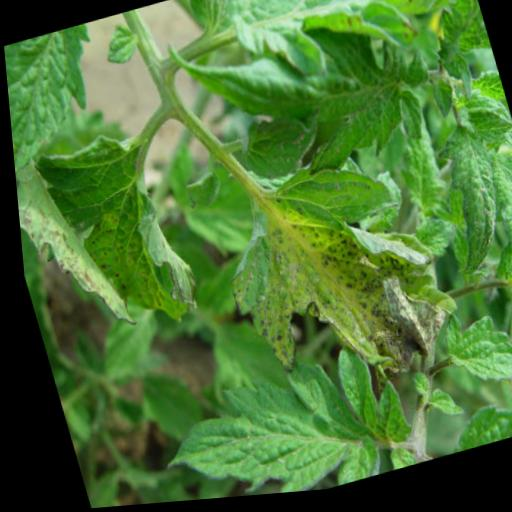Bacterial Spot: (195, 137, 468, 421), (26, 120, 204, 351), (11, 144, 131, 349), (415, 126, 512, 285)
Healthy: (135, 338, 414, 505), (428, 299, 512, 422)
